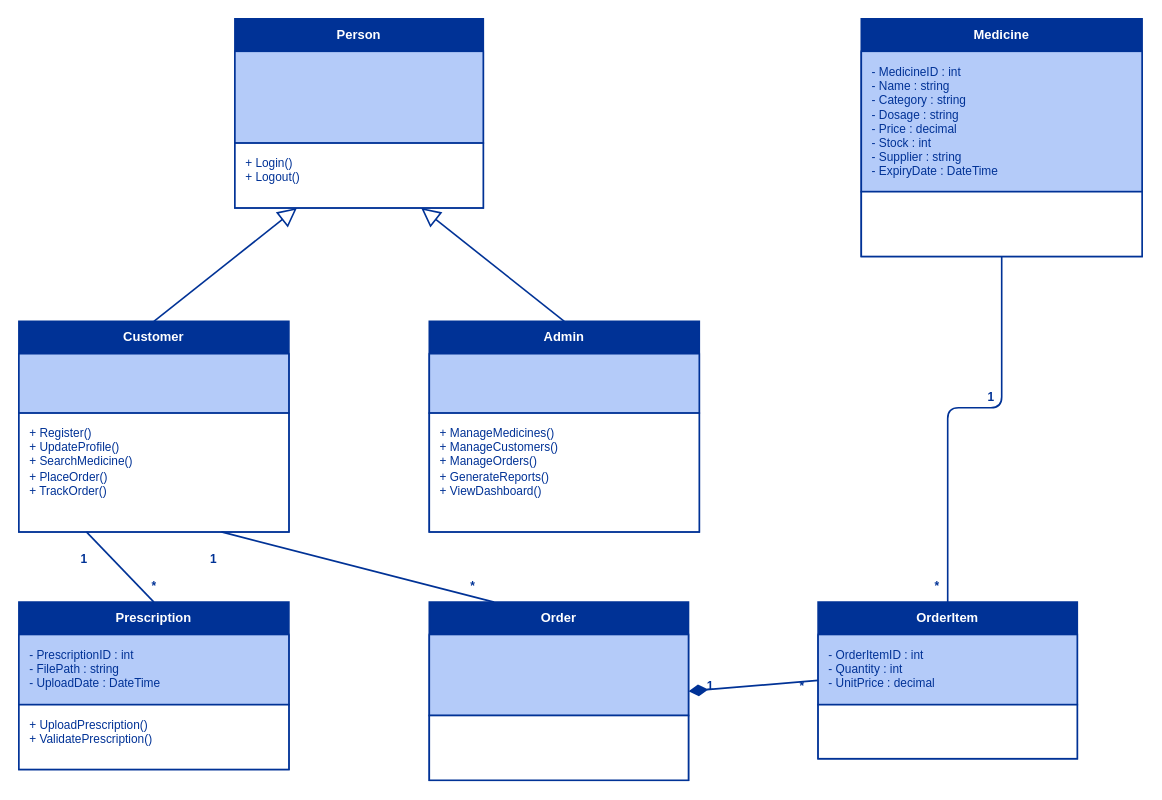
Some shapes in this 1162 by 800 pixel diagram are drawn without their labels. Here are the shapes that lost their labels. From the top down, the box of each, then its label:
(234, 50, 484, 143): - Name : string - Email : string - Phone : string - Password : string
(860, 190, 1142, 257): + AddMedicine() + UpdateMedicine() + DeleteMedicine() + CheckExpiry()
(18, 352, 289, 413): - CustomerID : int - Address : string
(428, 352, 700, 413): - AdminID : int - Username : string
(428, 633, 689, 716): - OrderID : int - OrderDate : DateTime - Status : string - TotalAmount : decimal
(428, 714, 689, 781): + CalculateTotal() + UpdateStatus()
(817, 703, 1078, 759): + CalculateSubtotal()
